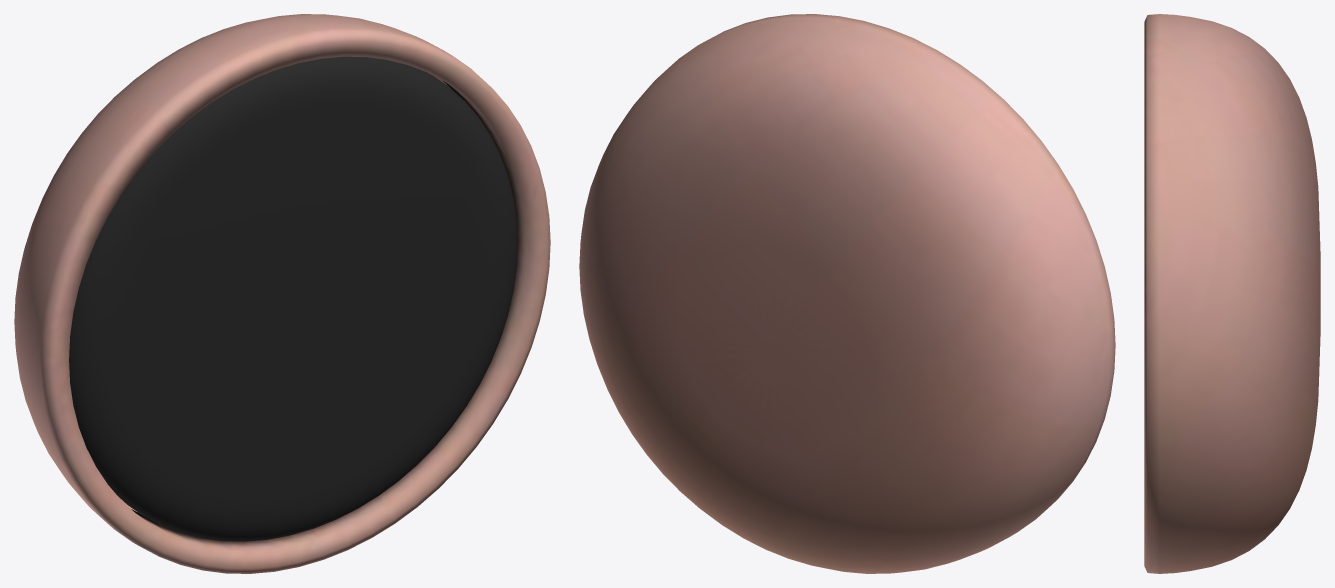
Rendered from timer.glb.
3 views of the same model, side by side, from view 1: azimuth 30°, elevation 25°; view 2: azimuth 150°, elevation 25°; view 3: azimuth 270°, elevation 25° (orthographic). The views are drawn at different scales.
Parts seen in each view (by area): view 1: Timer; view 2: Timer; view 3: Timer.
Boxes of the visible parts, <box> form: Timer: <box>14,14,550,573</box>; Timer: <box>579,14,1115,573</box>; Timer: <box>1144,14,1320,573</box>.
Bounding box in the file's own units: 1.99 × 1.99 × 0.625.
2 materials, 1 textured.
